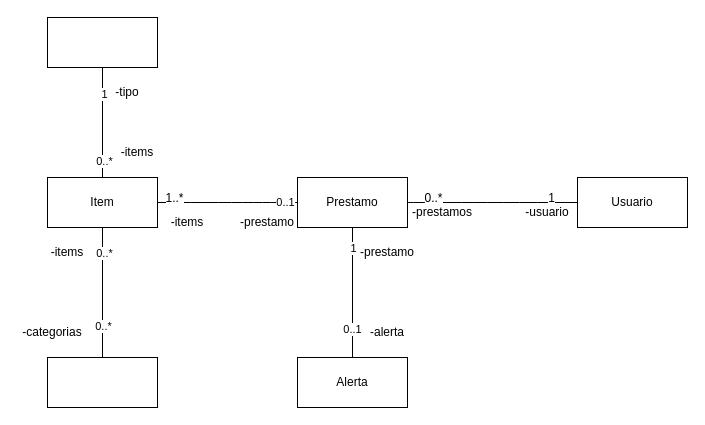
Some shapes in this 705 by 425 pixel diagram are drawn without their labels. The centre of each missing label's shape, as x and y in pixels:
"Categoria" goes at pixel 102 382.
"Tipo" goes at pixel 102 42.
